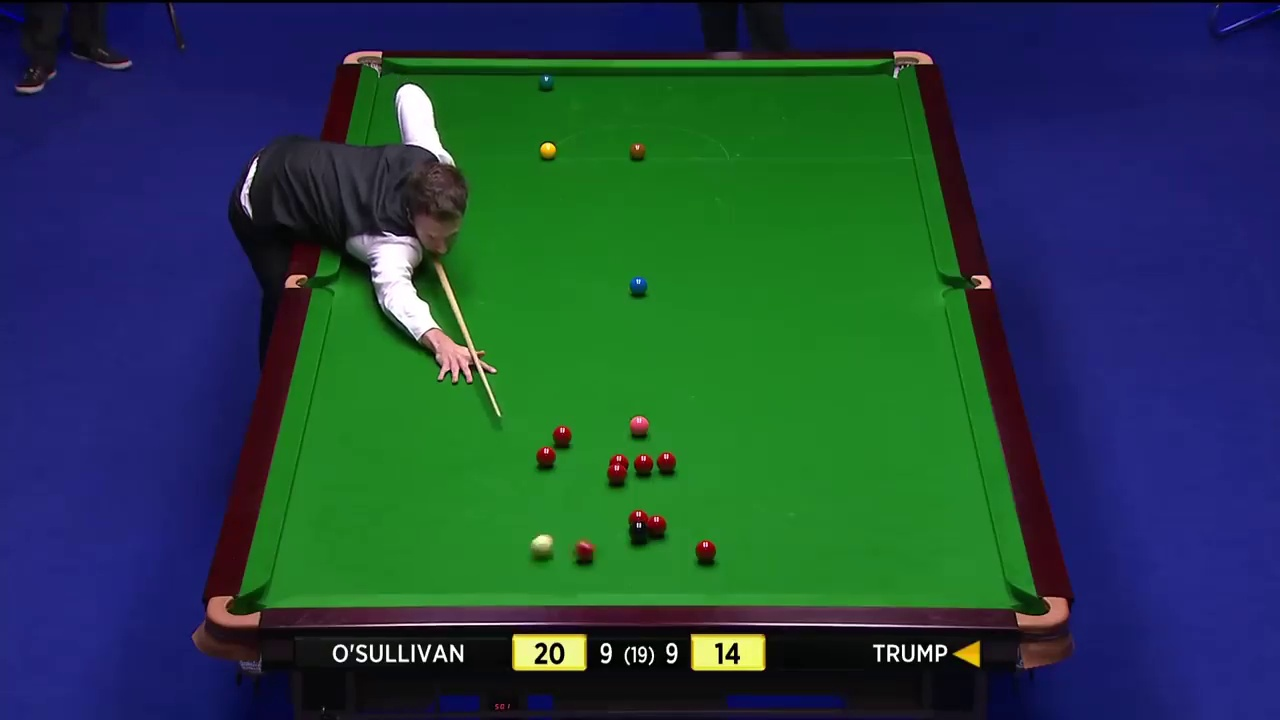ball: (692, 538, 719, 566), (533, 446, 557, 471), (628, 275, 649, 297), (660, 449, 678, 474), (629, 413, 647, 437), (634, 454, 653, 476), (535, 72, 554, 93), (537, 140, 557, 158), (627, 138, 645, 158)
